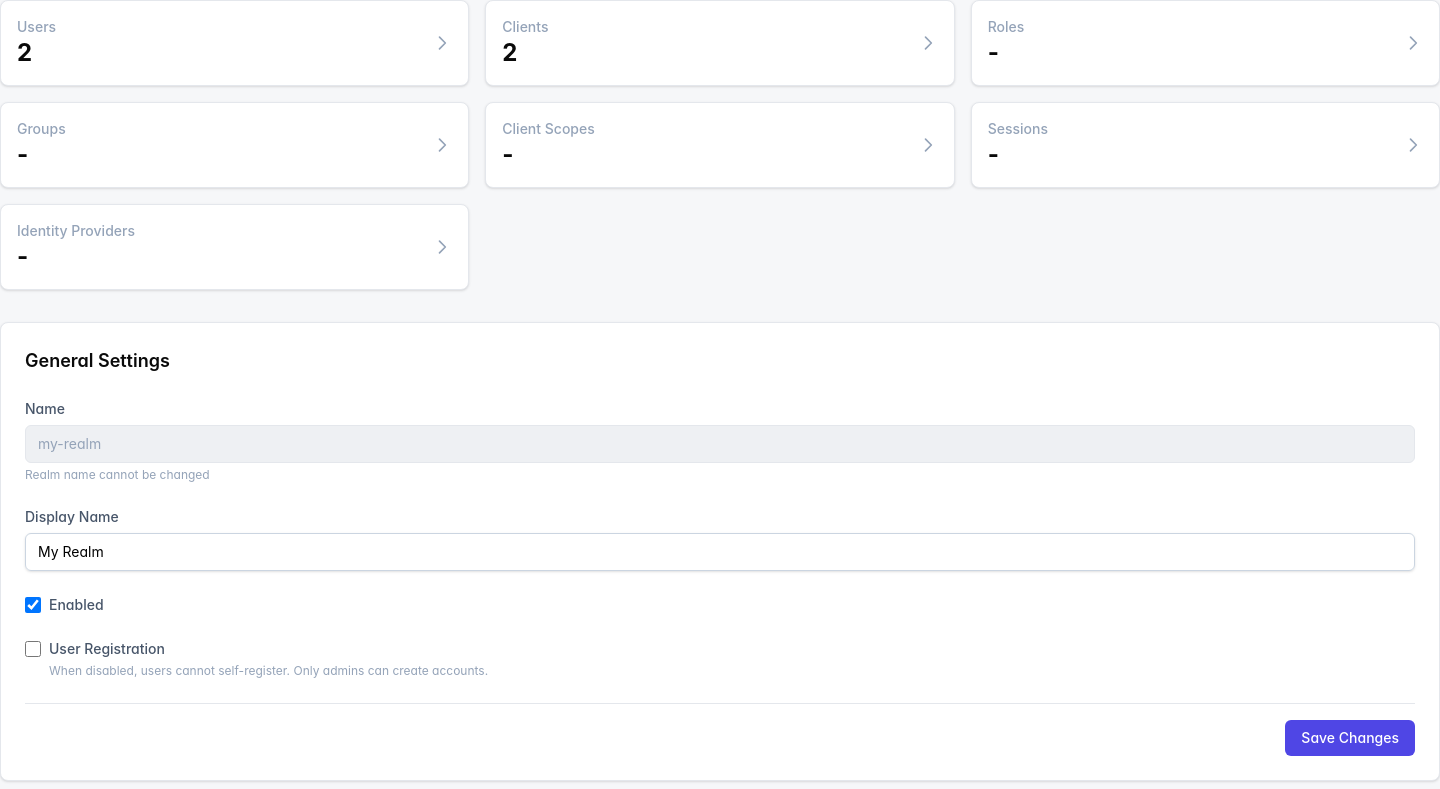
Test: GeneralSettingsForm › submits only the general fields and shows a success banner
The image size is (1440, 789).
Step 1. Click the button "Save Changes" → click(1350, 738), box [1285,720,1415,756]
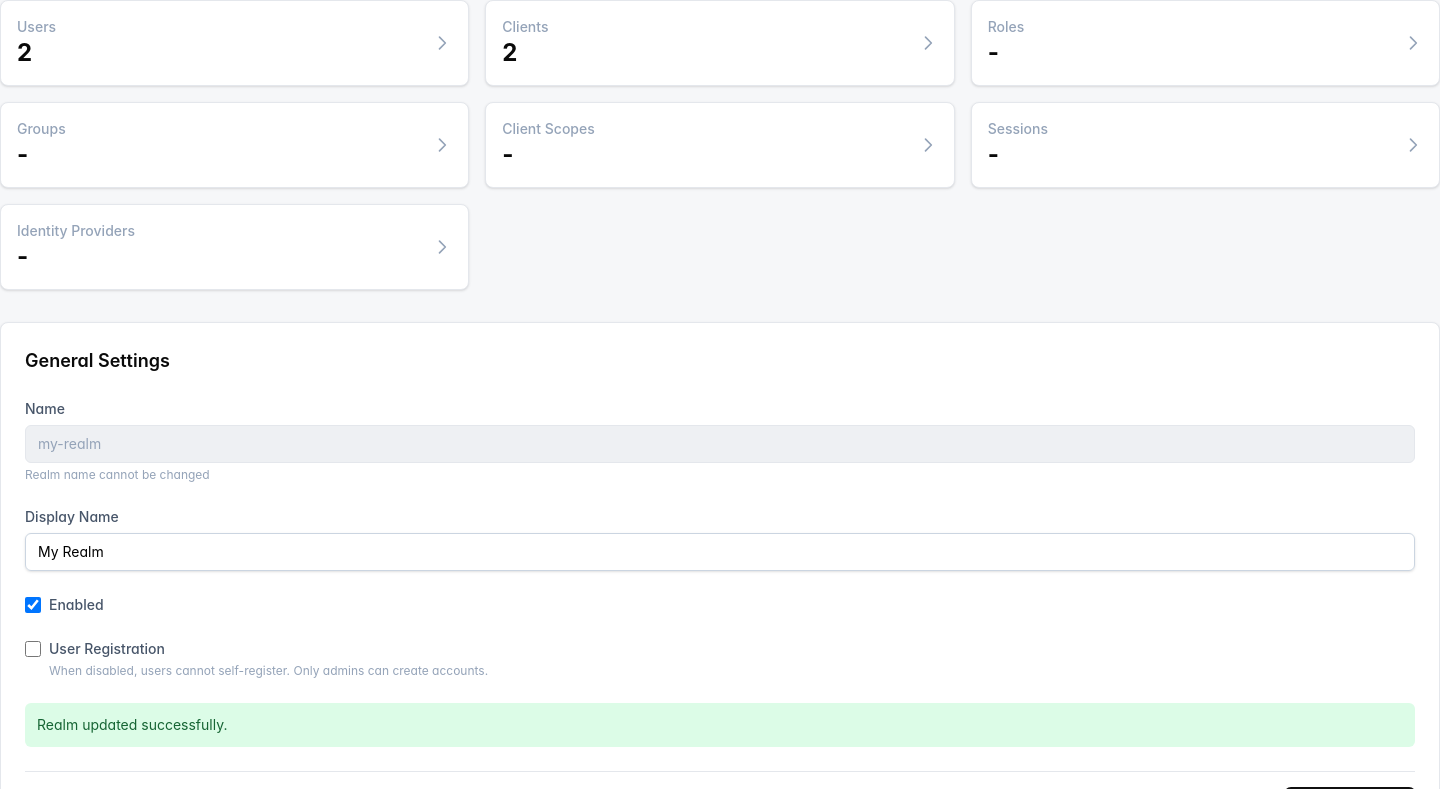
Expected: the text "Realm updated successfully." is shown, [25,703,1415,747]
